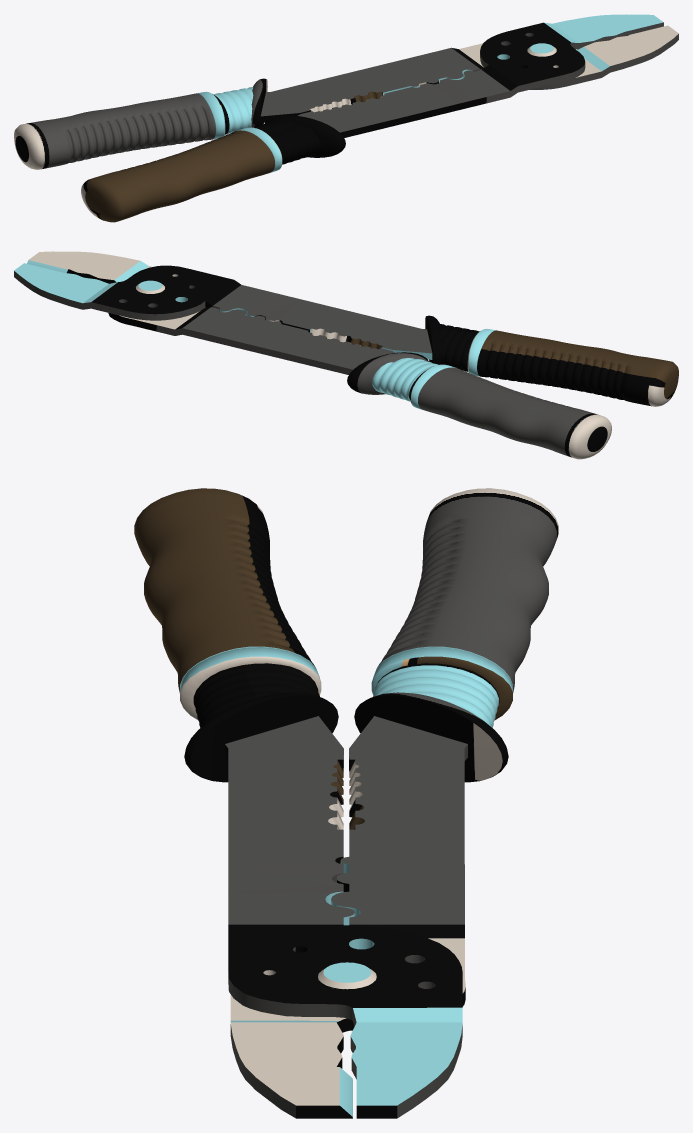
The model's file is WireStripper.FBX.
The picture shows the model from 3 angles, top to bottom: view 1: azimuth 30°, elevation 25°; view 2: azimuth 150°, elevation 25°; view 3: azimuth 270°, elevation 25°; orthographic projection. The views are drawn at different scales.
Visible parts, largest first — view 1: WireStripper; view 2: WireStripper; view 3: WireStripper.
Part boxes in pixels (x1,y1,x2,y2): WireStripper: [14, 14, 678, 222]; WireStripper: [14, 251, 678, 459]; WireStripper: [134, 488, 558, 1118].
Bounding box in the file's own units: 7.46 × 0.4416 × 2.25.
Materials: 1 (1 with a texture image).
